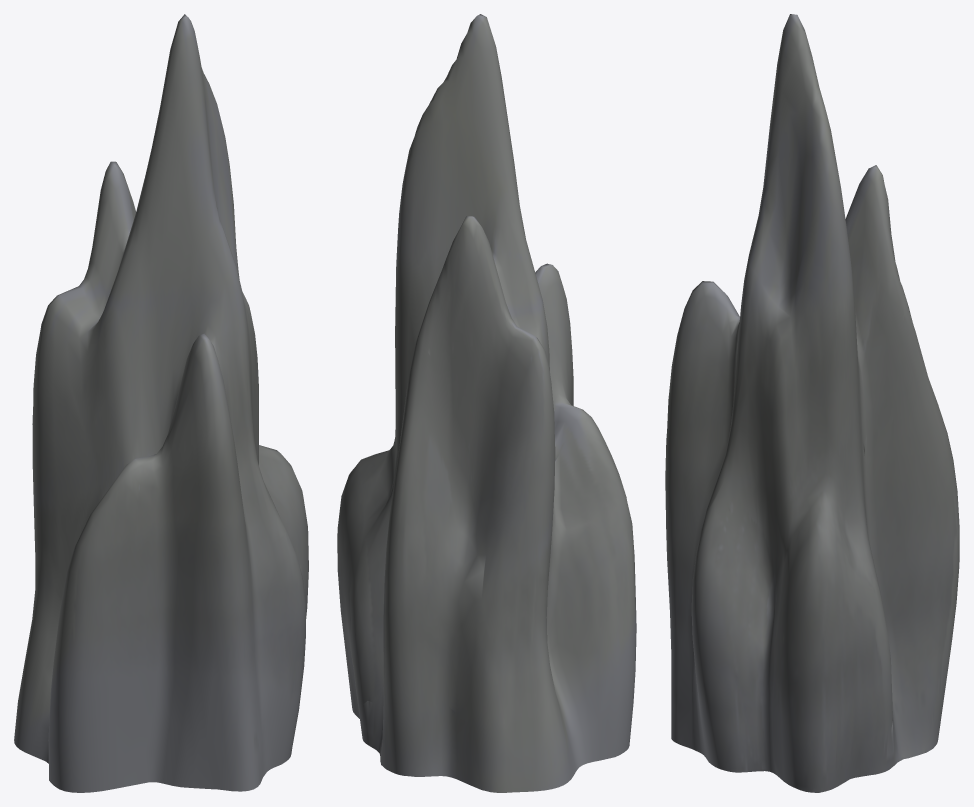
Rendered from Rock_4.fbx.
3 renders of one model, left to right at view 1: azimuth 30°, elevation 25°; view 2: azimuth 150°, elevation 25°; view 3: azimuth 270°, elevation 25°, orthographic. The views are drawn at different scales.
Visible parts, largest first — view 1: BigRock; view 2: BigRock; view 3: BigRock.
Boxes of the visible parts, left/top/right/bottom form: BigRock: left=14, top=14, right=308, bottom=792; BigRock: left=337, top=14, right=636, bottom=792; BigRock: left=665, top=14, right=959, bottom=792.
Bounding box in the file's own units: 29.32 × 74.7 × 27.58.
